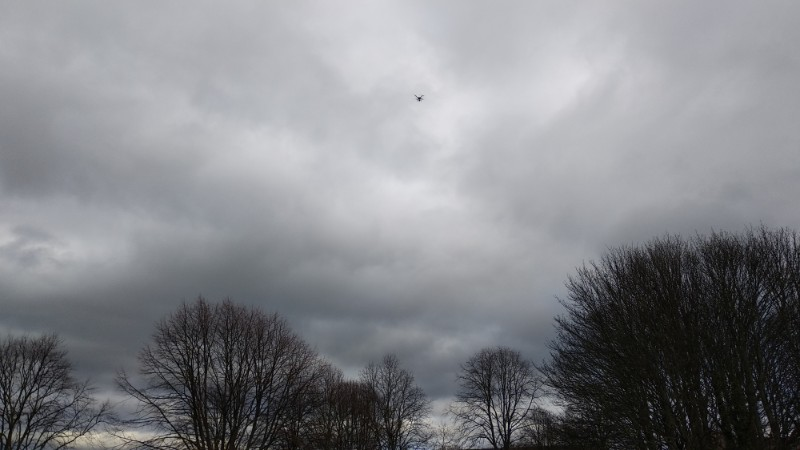drone: (414, 93, 426, 103)
